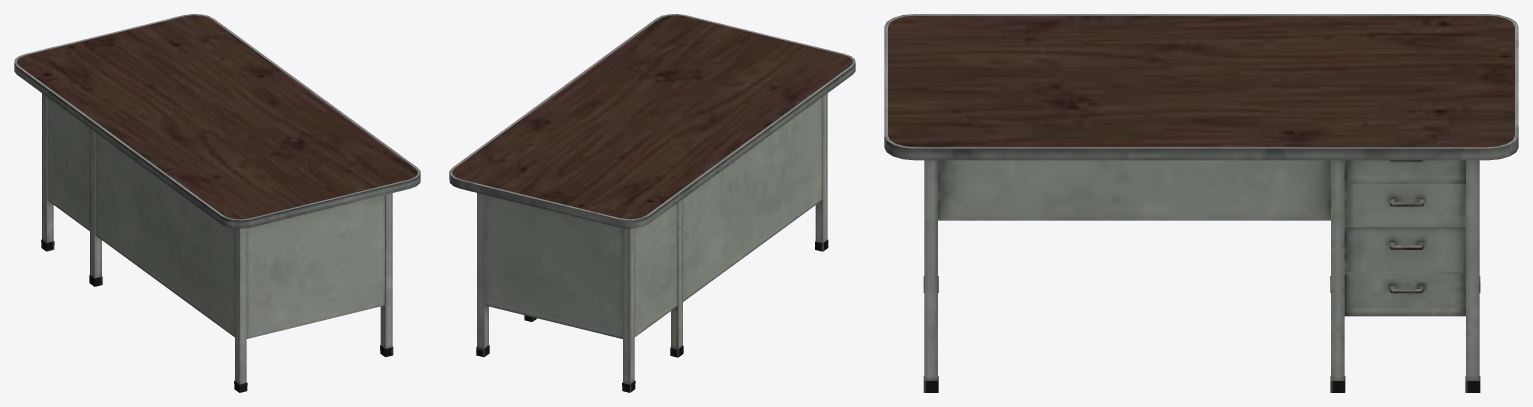
File: metal_table.glb
3 renders of one model, left to right at view 1: azimuth 30°, elevation 25°; view 2: azimuth 150°, elevation 25°; view 3: azimuth 270°, elevation 25°, orthographic. The views are drawn at different scales.
Visible parts, largest first — view 1: defaultMaterial; view 2: defaultMaterial; view 3: defaultMaterial.
Boxes of the visible parts, x1,y1,x2,y2 form: defaultMaterial: [14, 14, 420, 392]; defaultMaterial: [449, 14, 855, 392]; defaultMaterial: [884, 14, 1518, 392].
Bounding box in the file's own units: 1.01 × 0.9006 × 2.
1 material, 1 textured.
